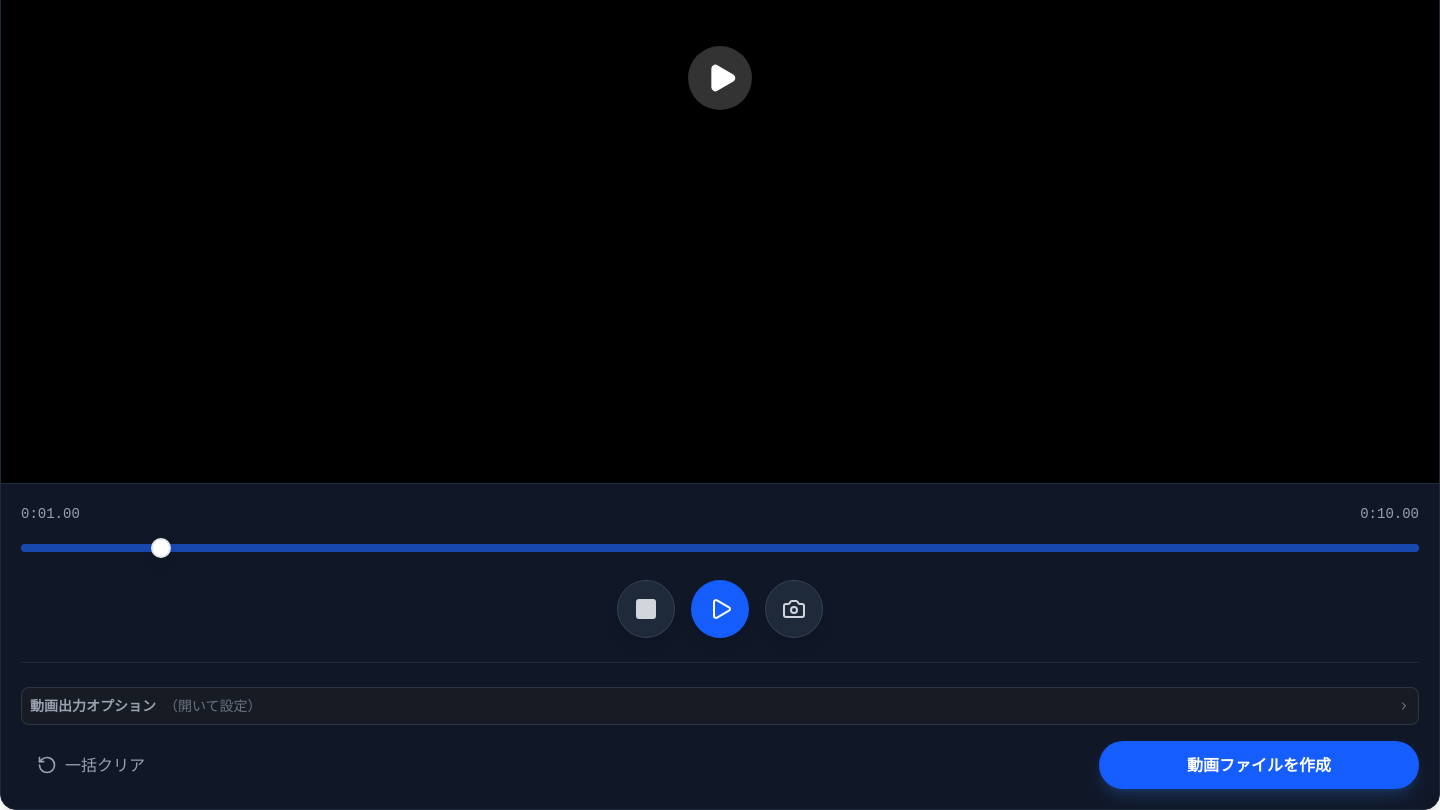
Test case: PreviewSection action buttons › 手動設定時はサムネイル設定内に手動と設定時刻を表示する
(page scrolled)
Click the button "動画出力オプション （開いて設定）".
click(93, 705)  # box [22,688,1418,724]
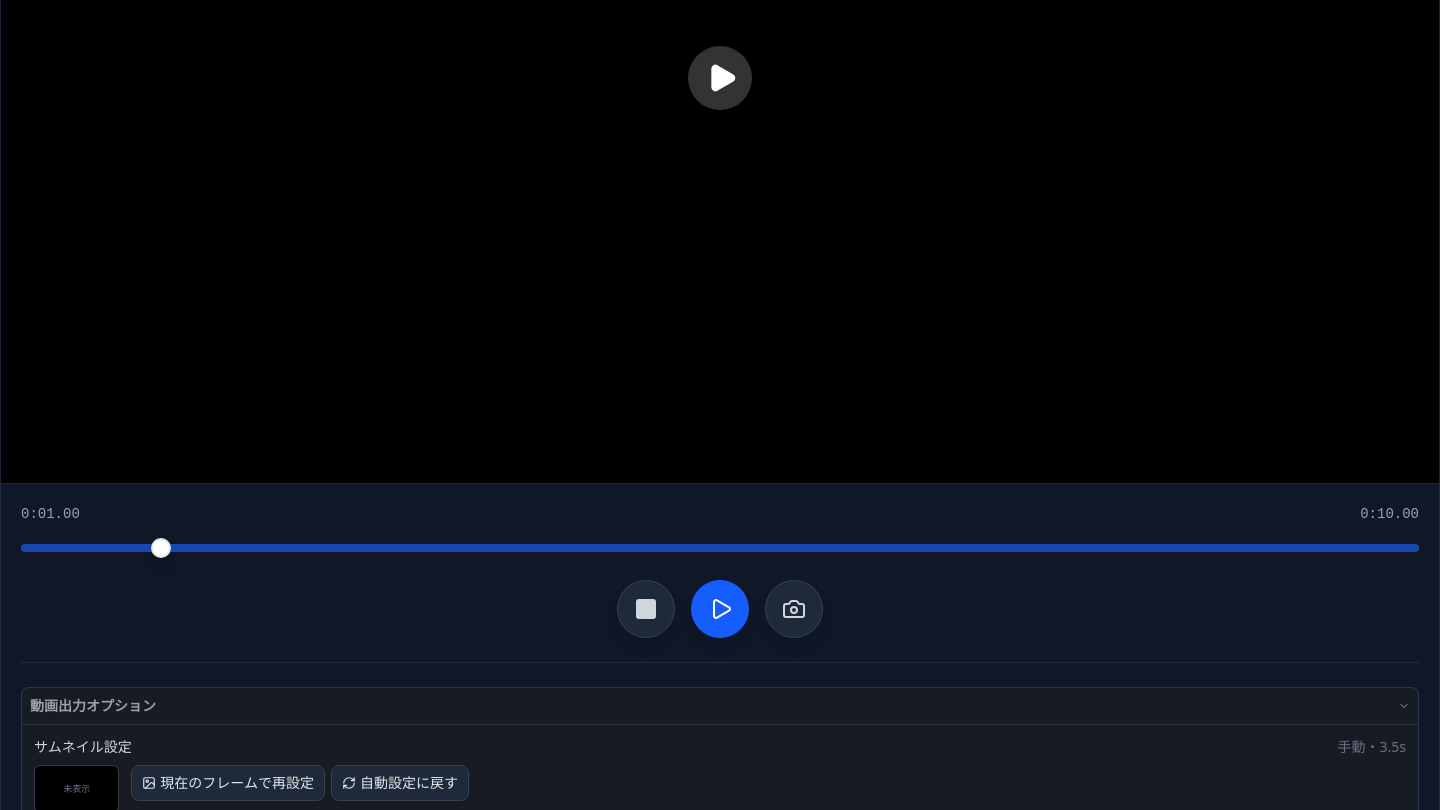
expect the text "手動・3.5s" is shown: met, box [1338,737,1406,757]
expect the button "自動設定に戻す" is shown: met, box [331,765,469,801]
